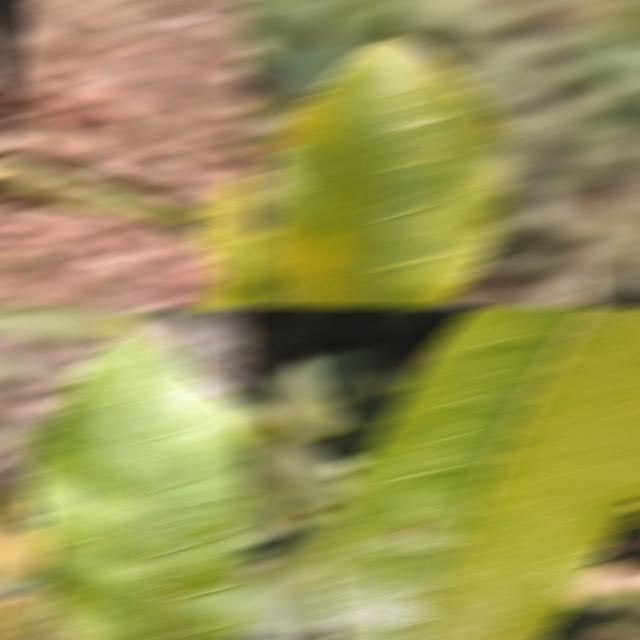Leaf: (317, 308, 640, 638), (25, 316, 250, 638), (262, 41, 510, 306), (0, 155, 207, 222), (236, 510, 349, 630), (270, 352, 370, 439), (236, 440, 353, 507), (236, 481, 291, 569), (0, 308, 122, 343), (236, 234, 285, 306), (0, 587, 51, 638), (236, 388, 281, 437), (613, 605, 640, 638)
